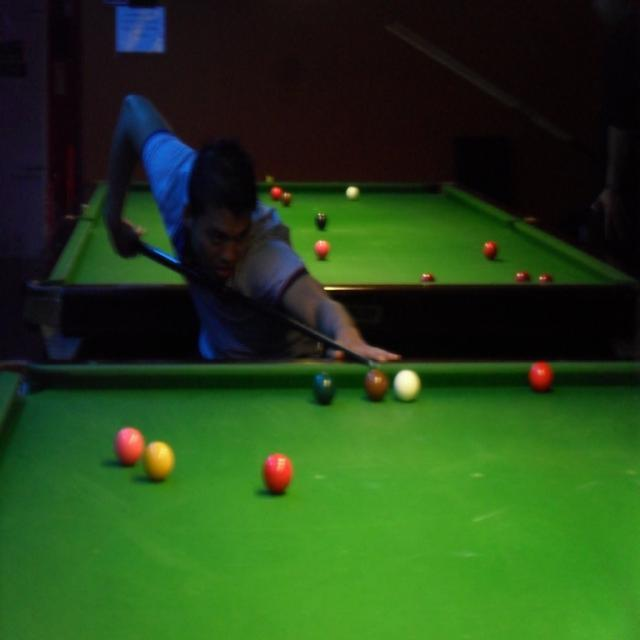Ball: (260, 454, 292, 492), (117, 424, 145, 464), (361, 370, 391, 404), (147, 444, 172, 478), (394, 372, 420, 400), (312, 375, 336, 405), (528, 364, 554, 390), (315, 239, 330, 263), (270, 186, 282, 204), (482, 242, 497, 256), (536, 274, 556, 284), (283, 190, 295, 204), (316, 214, 328, 228), (262, 175, 272, 189), (420, 272, 434, 282), (516, 272, 530, 282), (348, 185, 356, 199)
Billiard table: (0, 360, 639, 639), (20, 174, 640, 302)
